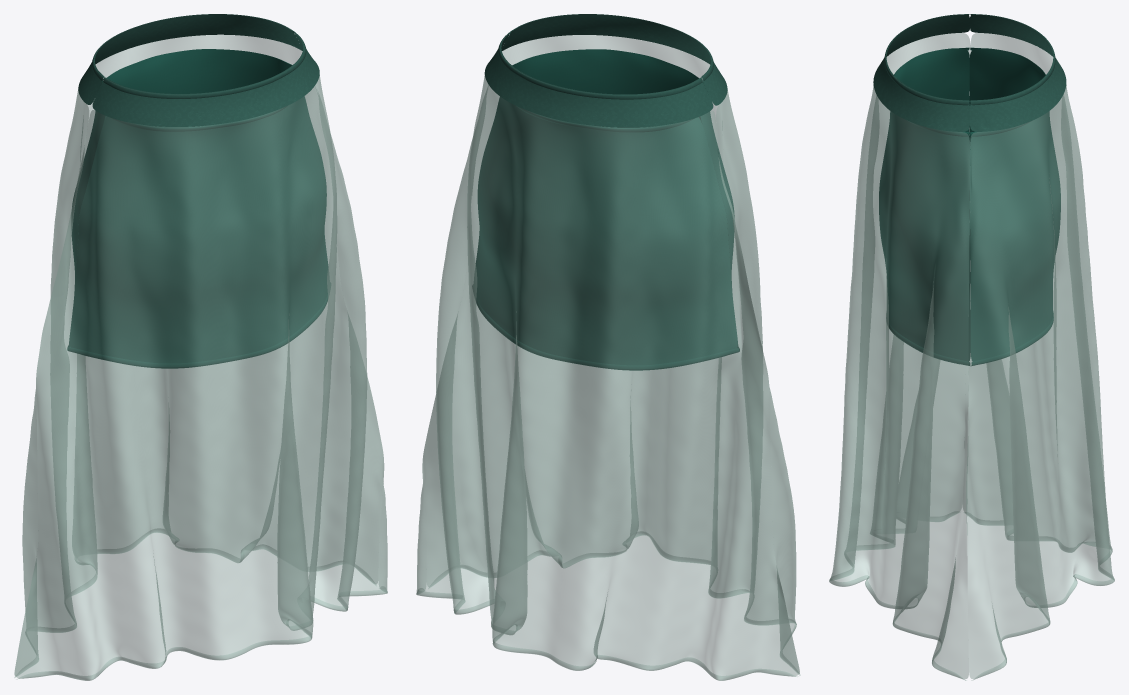
File: 潮汐-收褶纱裙.glb
The picture shows the model from 3 angles, left to right: view 1: azimuth 30°, elevation 25°; view 2: azimuth 150°, elevation 25°; view 3: azimuth 270°, elevation 25°; orthographic projection. The views are drawn at different scales.
Parts seen in each view (by area): view 1: 前片 · 欧根纱, 后片 · 欧根纱, 前片 · 绒布内衬, 后片 · 绒布内衬, 前腰头, 后腰头, 前片 · 绒布内衬 包边, 前片 · 欧根纱 包边, 前腰头 包边; view 2: 后片 · 欧根纱, 前片 · 欧根纱, 后片 · 绒布内衬, 前片 · 绒布内衬, 后腰头, 前腰头, 后片 · 绒布内衬 包边, 后片 · 欧根纱 包边, 后腰头 包边; view 3: 后片 · 欧根纱, 前片 · 欧根纱, 前片 · 绒布内衬, 后片 · 绒布内衬, 后腰头, 前腰头, 后片 · 欧根纱 包边, 前片 · 欧根纱 包边, 后片 · 绒布内衬 包边, 前片 · 绒布内衬 包边, 前腰头 包边, 后腰头 包边.
Boxes of the visible parts, x1,y1,x2,y2 form: 前片 · 欧根纱: [15, 75, 387, 680]; 后片 · 欧根纱: [14, 35, 383, 675]; 前片 · 绒布内衬: [69, 96, 329, 368]; 后片 · 绒布内衬: [69, 49, 290, 347]; 前腰头: [92, 33, 319, 126]; 后腰头: [78, 14, 302, 104]; 前片 · 绒布内衬 包边: [68, 106, 330, 368]; 前片 · 欧根纱 包边: [16, 588, 387, 680]; 前腰头 包边: [103, 31, 306, 98]; 后片 · 欧根纱: [416, 75, 799, 680]; 前片 · 欧根纱: [422, 35, 799, 673]; 后片 · 绒布内衬: [474, 96, 737, 370]; 前片 · 绒布内衬: [514, 49, 738, 348]; 后腰头: [484, 33, 713, 127]; 前腰头: [501, 14, 727, 105]; 后片 · 绒布内衬 包边: [472, 106, 739, 370]; 后片 · 欧根纱 包边: [416, 590, 797, 680]; 后腰头 包边: [498, 31, 702, 99]; 后片 · 欧根纱: [963, 33, 1113, 678]; 前片 · 欧根纱: [829, 33, 970, 678]; 前片 · 绒布内衬: [879, 48, 970, 364]; 后片 · 绒布内衬: [969, 48, 1060, 363]; 后腰头: [970, 14, 1066, 131]; 前腰头: [873, 14, 969, 131]; 后片 · 欧根纱 包边: [964, 512, 1114, 680]; 前片 · 欧根纱 包边: [829, 512, 966, 680]; 后片 · 绒布内衬 包边: [970, 47, 1053, 365]; 前片 · 绒布内衬 包边: [886, 47, 970, 365]; 前腰头 包边: [884, 14, 969, 105]; 后腰头 包边: [970, 14, 1055, 105].
Size of the model in its own units: 0.5371 by 0.7944 by 0.3798.
Materials: 12 (12 with a texture image).
